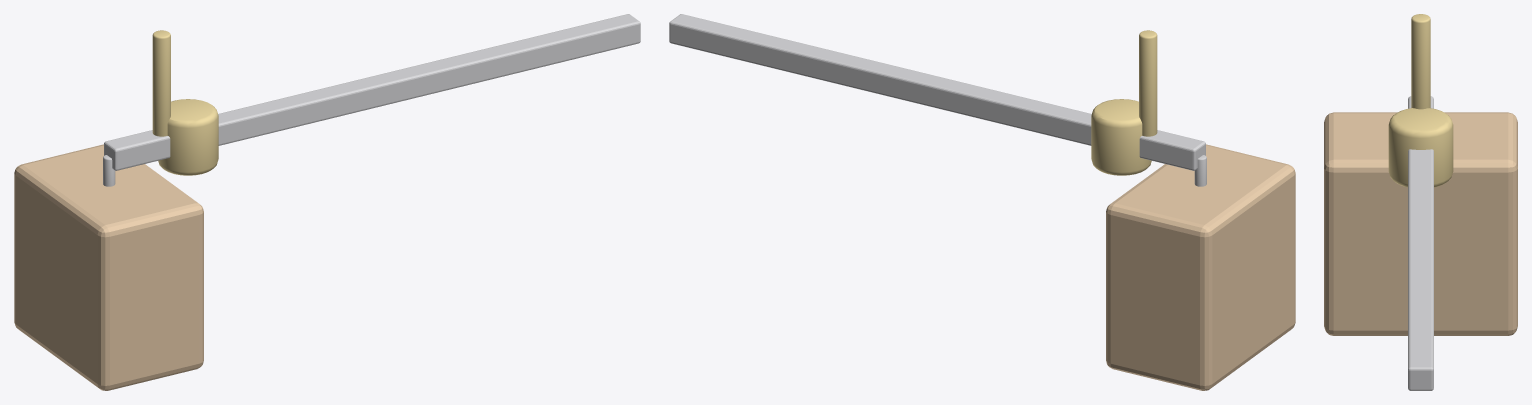
The model's file is le_levier_bras_de_levier_et_equilibr_v1.glb.
3 renders of one model, left to right at view 1: azimuth 30°, elevation 25°; view 2: azimuth 150°, elevation 25°; view 3: azimuth 270°, elevation 25°, orthographic. The views are drawn at different scales.
Parts seen in each view (by area): view 1: sack, beam, counterweight, pivot_hook; view 2: sack, beam, counterweight, pivot_hook; view 3: sack, beam, counterweight, pivot_hook.
Part boxes in pixels (<box>): sack: <box>14,144,203,390</box>; beam: <box>104,14,640,170</box>; counterweight: <box>158,99,218,175</box>; pivot_hook: <box>152,30,170,136</box>; sack: <box>1106,144,1295,390</box>; beam: <box>669,14,1205,170</box>; counterweight: <box>1091,99,1151,175</box>; pivot_hook: <box>1139,30,1157,136</box>; sack: <box>1324,112,1517,335</box>; beam: <box>1408,96,1433,390</box>; counterweight: <box>1388,108,1453,187</box>; pivot_hook: <box>1411,14,1430,109</box>.
Size of the model in its own units: 2.2 by 1.1 by 0.6.
